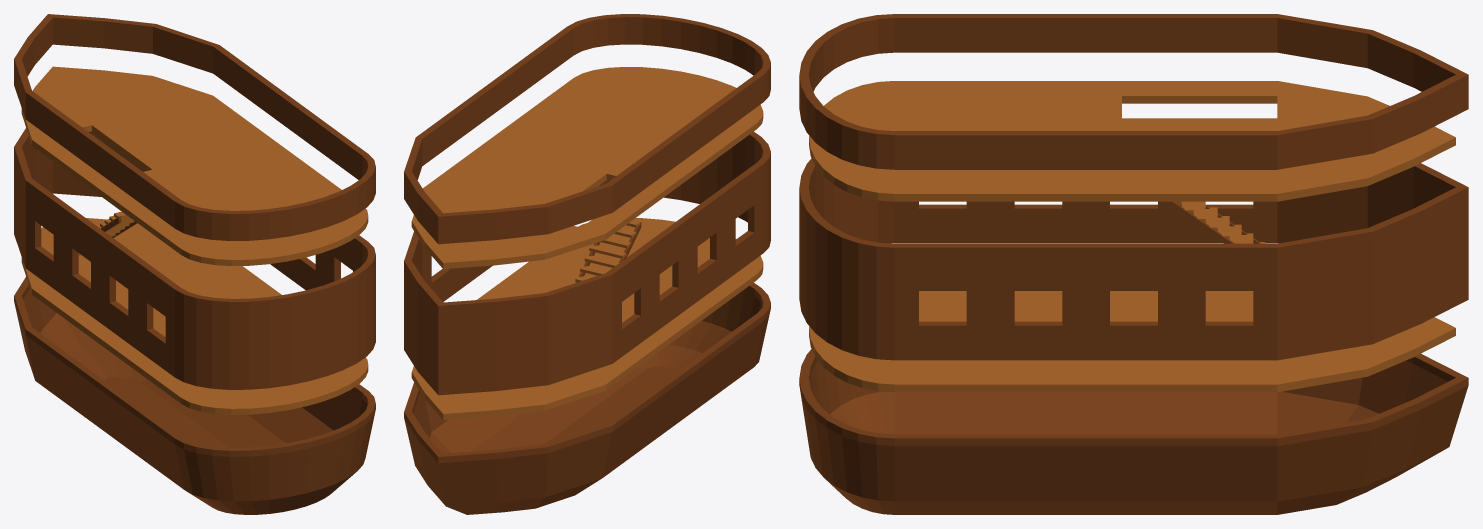
The model's file is DOUBLE_DECK_EXPLODED.obj.
3 renders of one model, left to right at view 1: azimuth 30°, elevation 25°; view 2: azimuth 150°, elevation 25°; view 3: azimuth 270°, elevation 25°, orthographic. The views are drawn at different scales.
Bounding box in the file's own units: 6 × 9.6 × 14.
